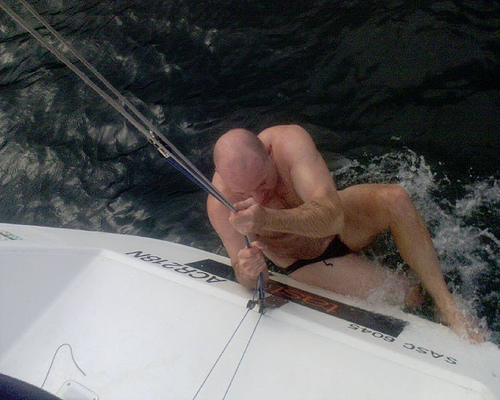without_mask: (214, 145, 283, 209)
